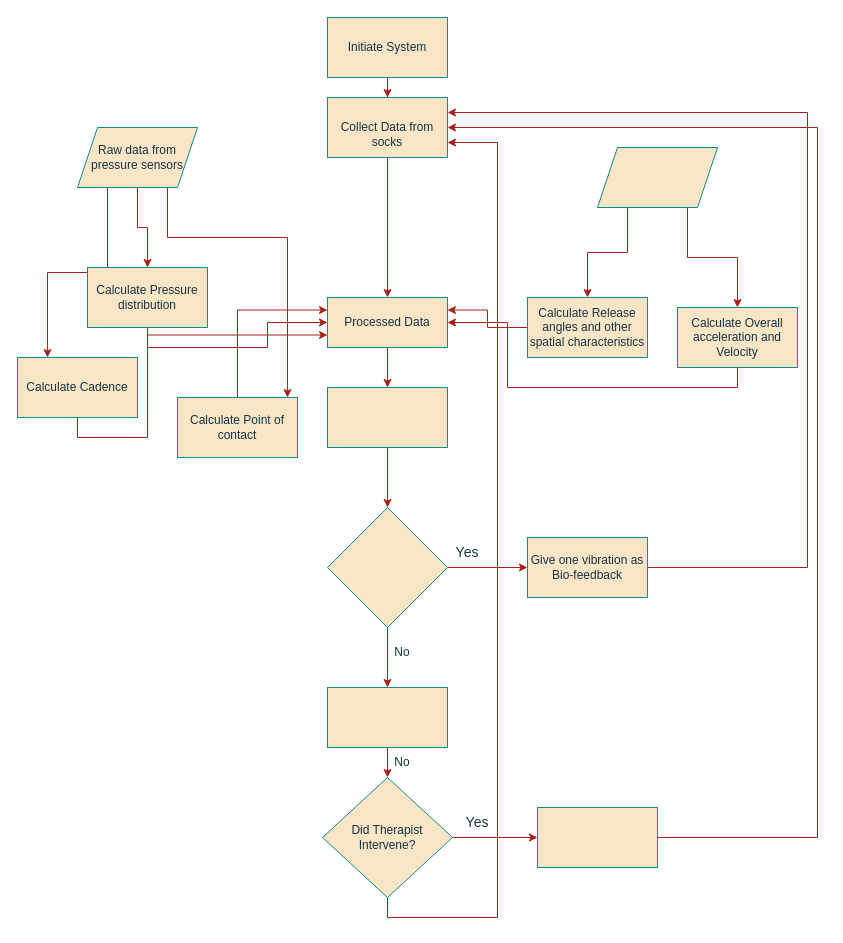
Some shapes in this 843 by 943 pixel diagram are drawn without their labels. Each missing label, with the box of its shape:
Do what Therapist Presses.: (536, 806, 658, 868)
Give two vibrations: (326, 686, 448, 748)
Is the Gait correct?: (326, 506, 448, 628)
Raw data from IMU: (596, 146, 718, 208)
Send Data Via Bluetooth: (326, 386, 448, 448)
